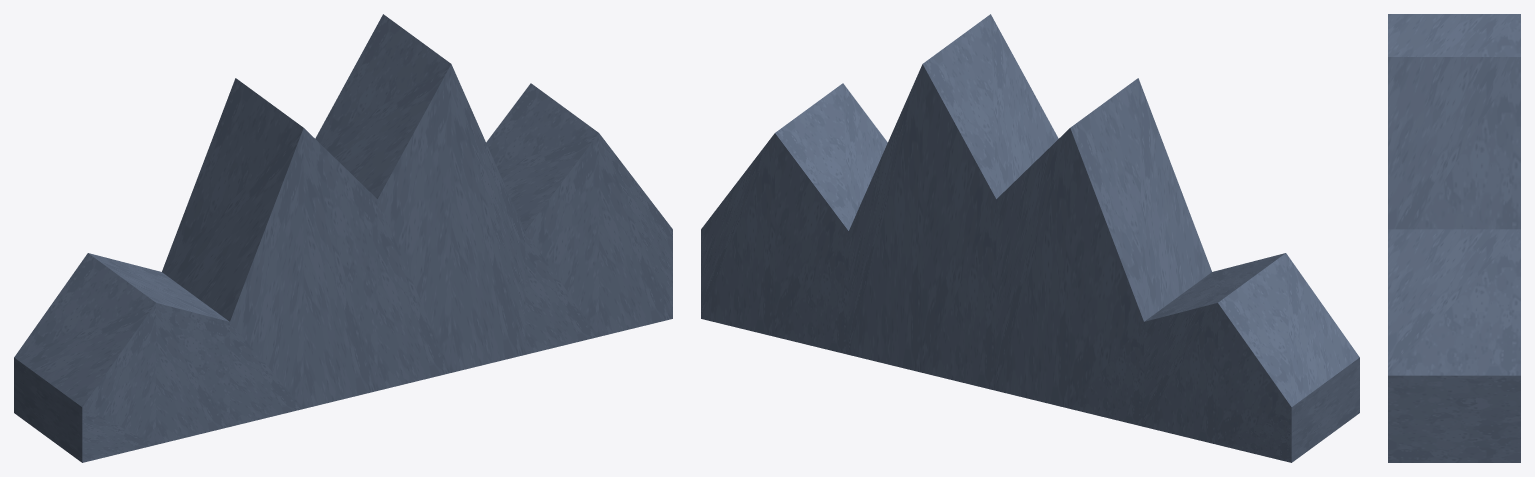
File: boundary_ridge.glb
3 views of the same model, side by side, from view 1: azimuth 30°, elevation 25°; view 2: azimuth 150°, elevation 25°; view 3: azimuth 270°, elevation 25° (orthographic). The views are drawn at different scales.
Visible parts, largest first — view 1: outdoor_boundary_ridge; view 2: outdoor_boundary_ridge; view 3: outdoor_boundary_ridge.
Part boxes in pixels (box(x1,y1,x2,y2)): outdoor_boundary_ridge: box(14, 14, 672, 462); outdoor_boundary_ridge: box(701, 14, 1359, 462); outdoor_boundary_ridge: box(1388, 14, 1520, 462).
Bounding box in the file's own units: 20 × 10 × 4.
Materials: 1 (1 with a texture image).
